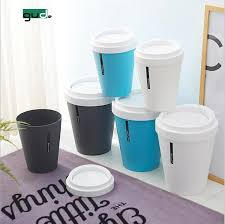cup: (137, 29, 184, 113), (92, 26, 136, 98)
